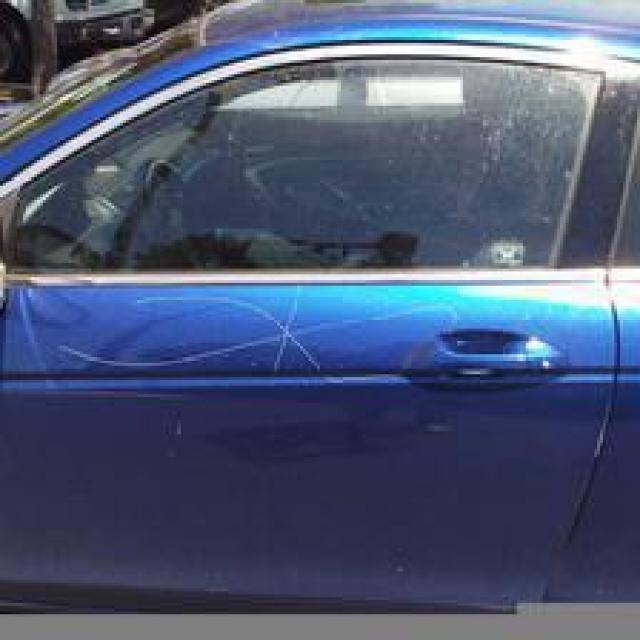damaged: (57, 288, 466, 388)
